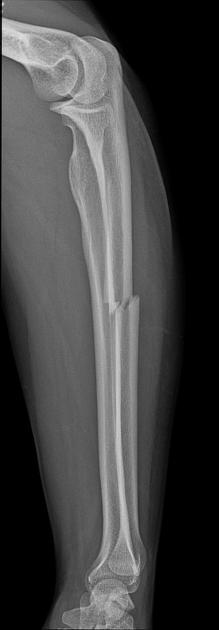fractured: (100, 294, 140, 316)
